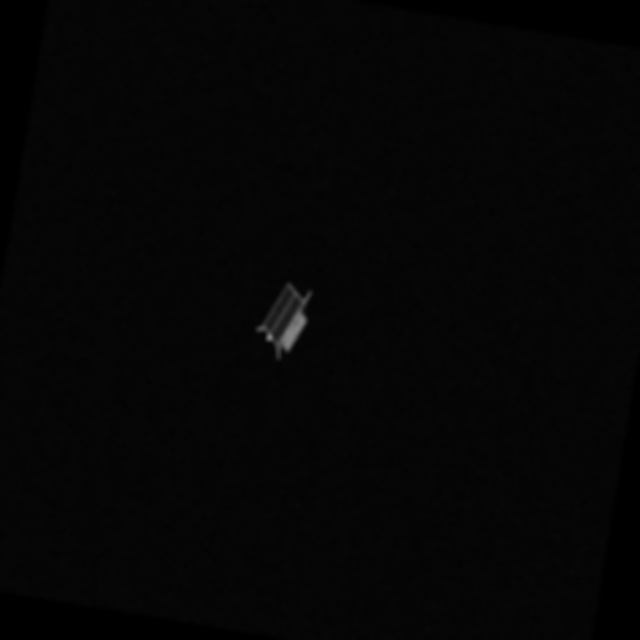satellite: (248, 274, 322, 371)
